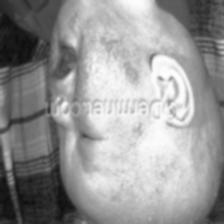Non-Cancerous Skin Condition: (96, 31, 144, 97), (78, 47, 92, 96)
